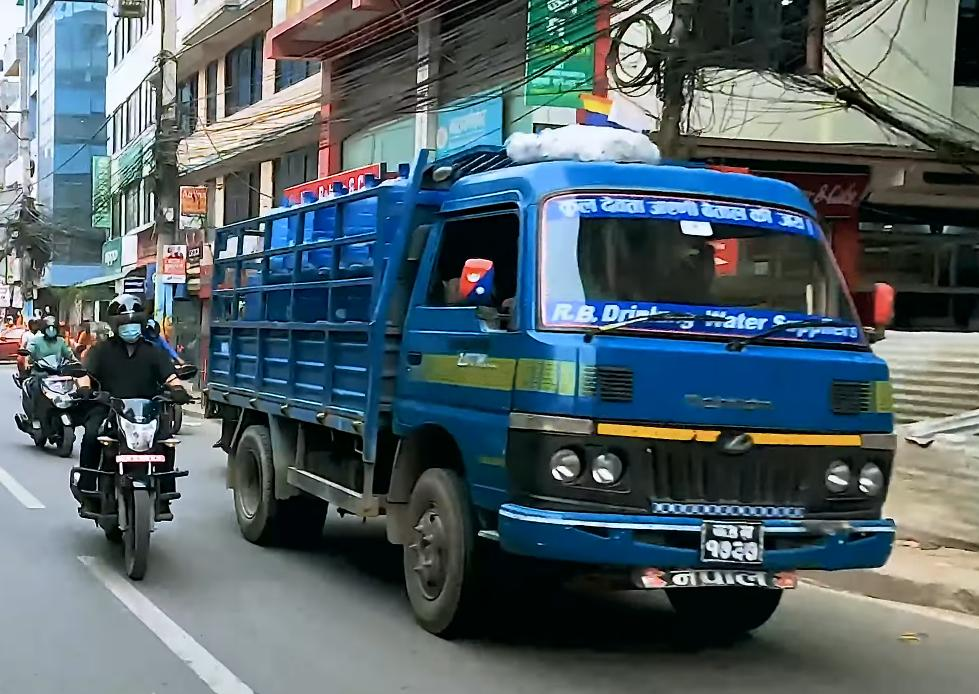bike: (63, 290, 188, 597)
mini_truck: (190, 117, 932, 649)
scooter: (6, 315, 76, 462)
